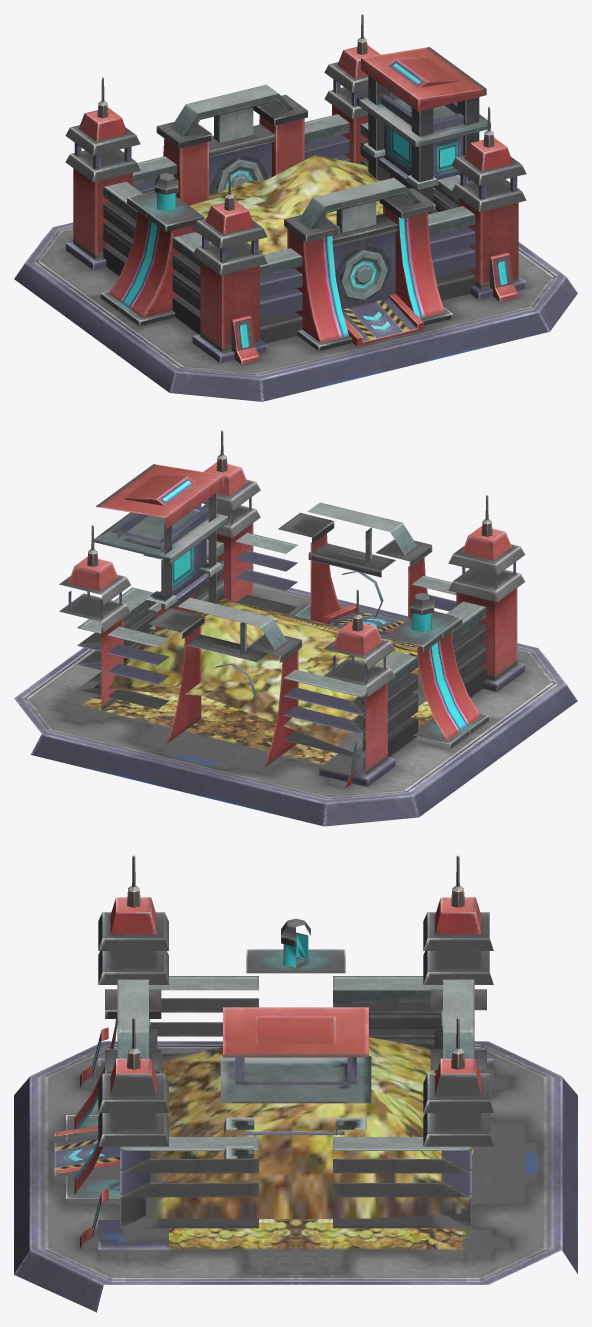
3 views of the same model, one above another, from view 1: azimuth 30°, elevation 25°; view 2: azimuth 150°, elevation 25°; view 3: azimuth 270°, elevation 25° (orthographic). The views are drawn at different scales.
Parts seen in each view (by area): view 1: build9_3; view 2: build9_3; view 3: build9_3.
Boxes of the visible parts, box(x1,y1,x2,y2) form: build9_3: box(14, 14, 577, 401); build9_3: box(14, 430, 577, 826); build9_3: box(14, 855, 577, 1312).
Bounding box in the file's own units: 8.99 × 4.08 × 8.4.
Materials: 1 (1 with a texture image).
